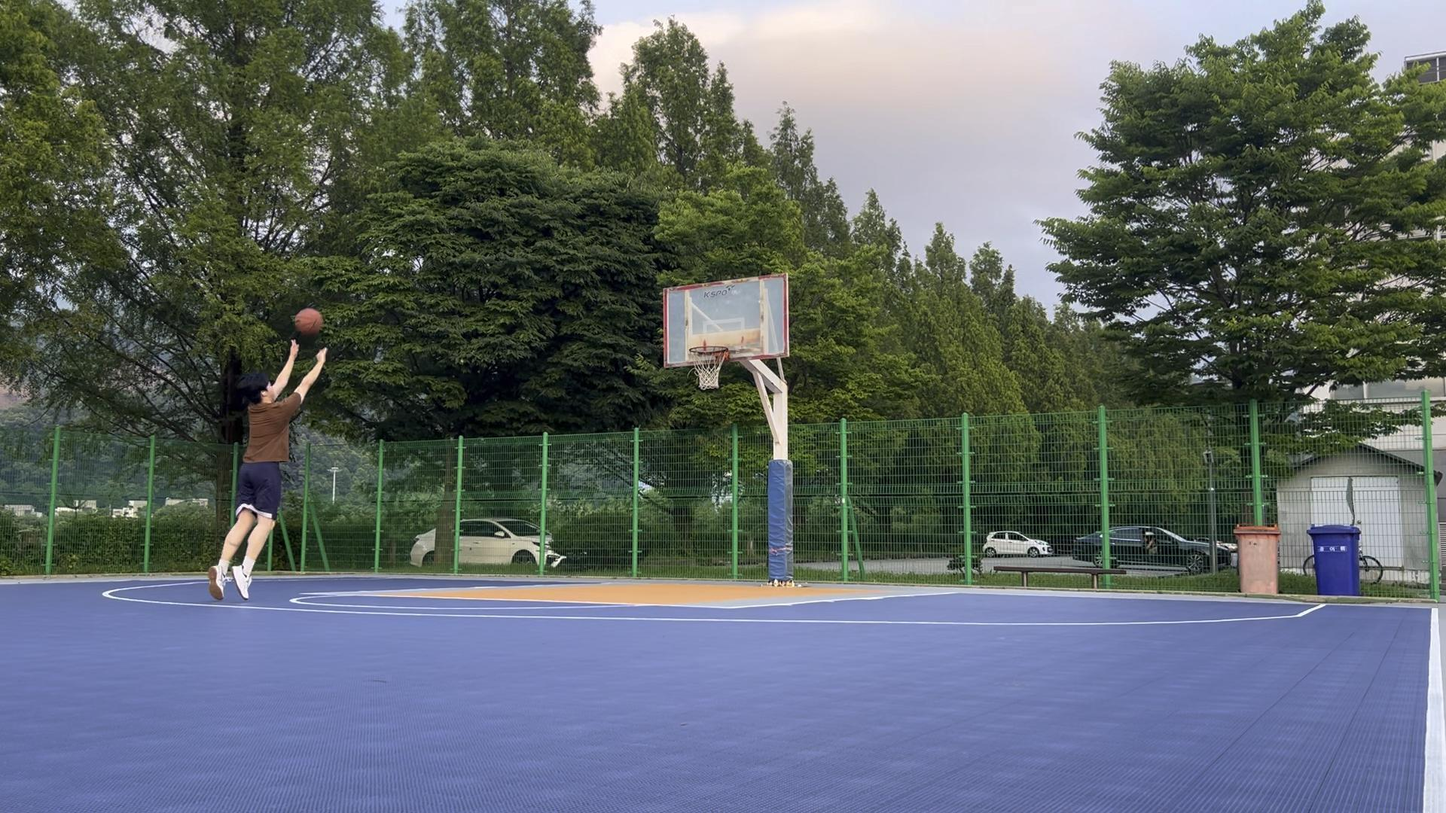ball: (294, 306, 323, 336)
human: (206, 336, 328, 601)
rim: (689, 346, 729, 391)
